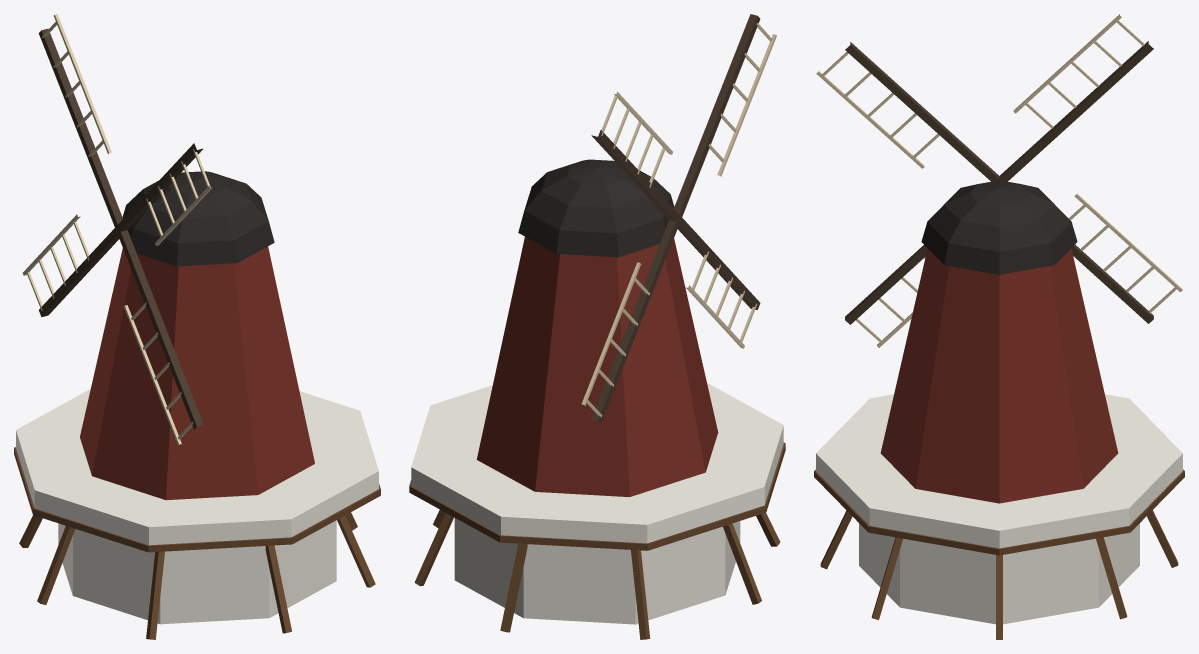
The model's file is oldemolen.glb.
3 renders of one model, left to right at view 1: azimuth 30°, elevation 25°; view 2: azimuth 150°, elevation 25°; view 3: azimuth 270°, elevation 25°, orthographic. The views are drawn at different scales.
Visible parts, largest first — view 1: oldemolen_lod0; view 2: oldemolen_lod0; view 3: oldemolen_lod0.
Part boxes in pixels (box(x1,y1,x2,y2)): oldemolen_lod0: box(14, 14, 380, 639); oldemolen_lod0: box(409, 14, 785, 639); oldemolen_lod0: box(814, 14, 1184, 639).
Size of what is drawn, in the model's own units: 19 by 29.14 by 19.
